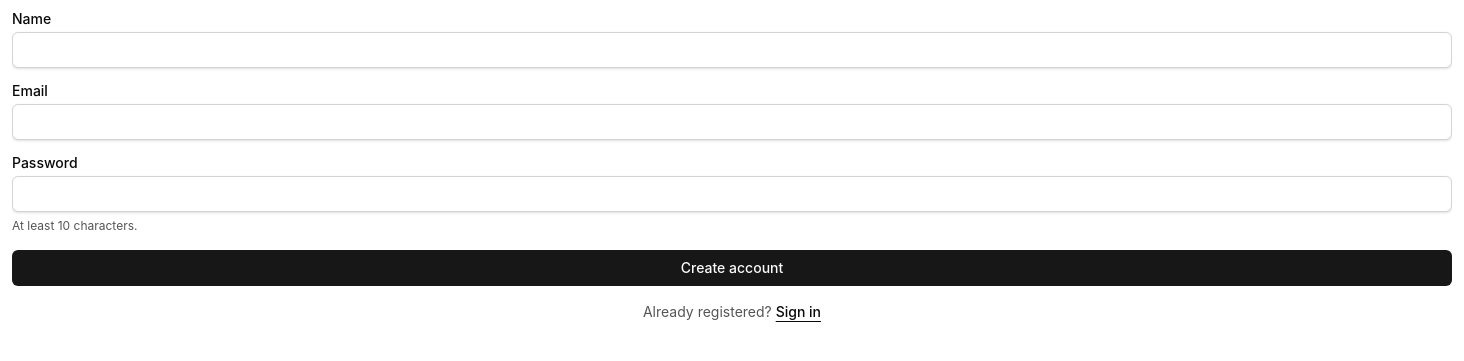
Test: RegisterForm › renders field errors returned by the server action
In the field labelled "Name": (732,50) [12,32,1452,68], type "Ada"
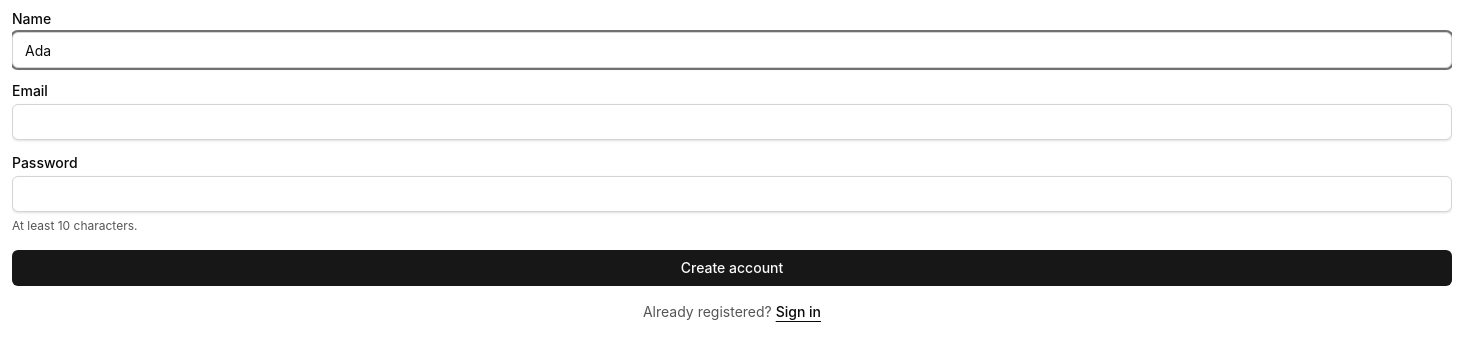
In the field labelled "Email": (732,122) [12,104,1452,140], type "ada@example.com"
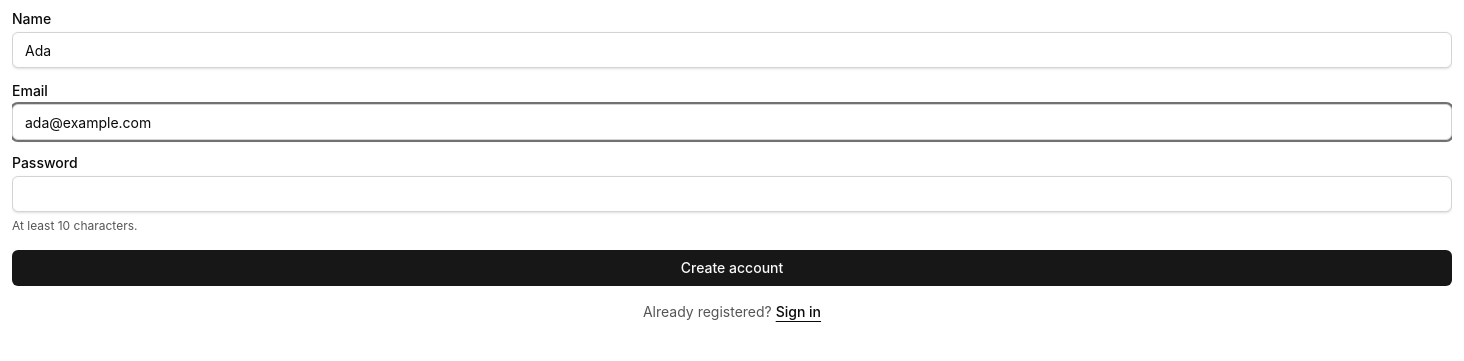
In the password field labelled "Password": (732,194) [12,176,1452,212], type "long-enough-password"
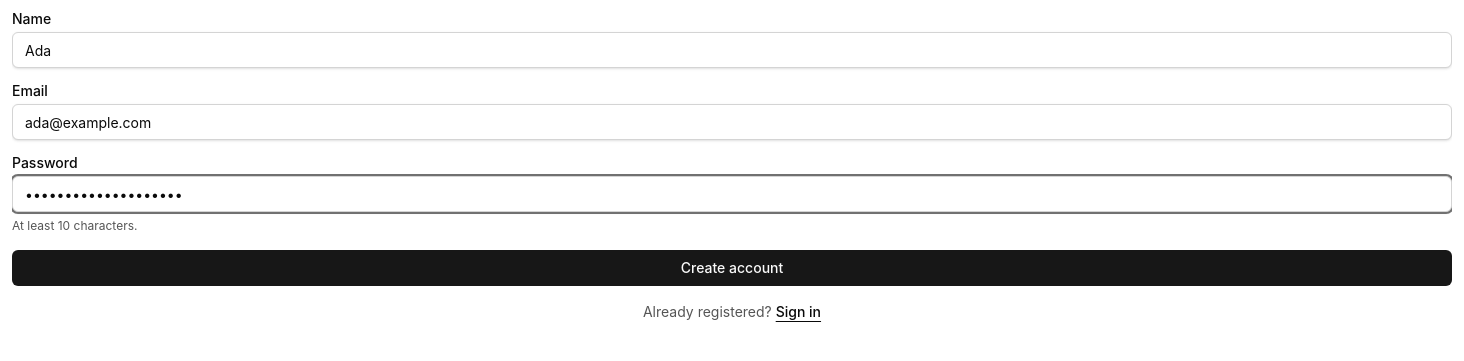
Click the button "Create account": (732,268) [12,250,1452,286]
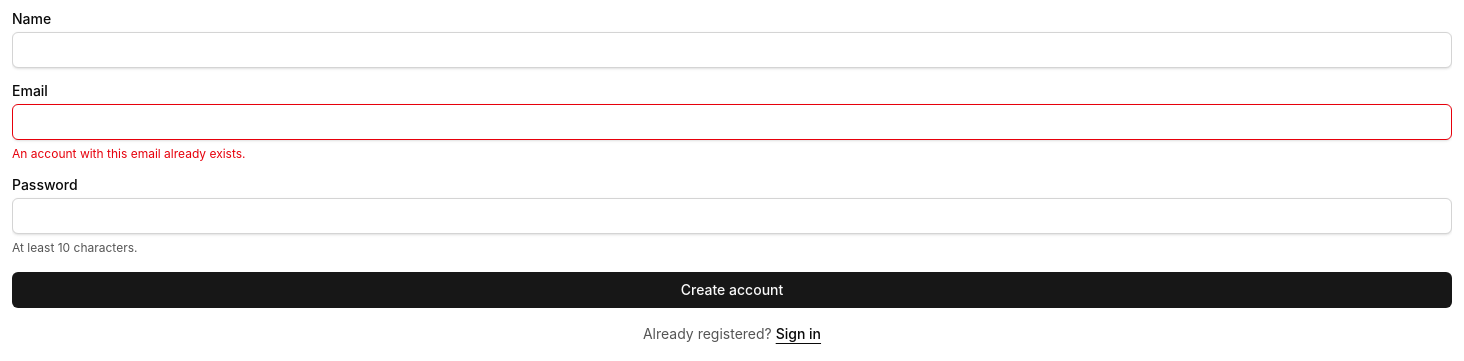
Expected: the text "An account with this email already exists." is shown, [12,146,246,161]
